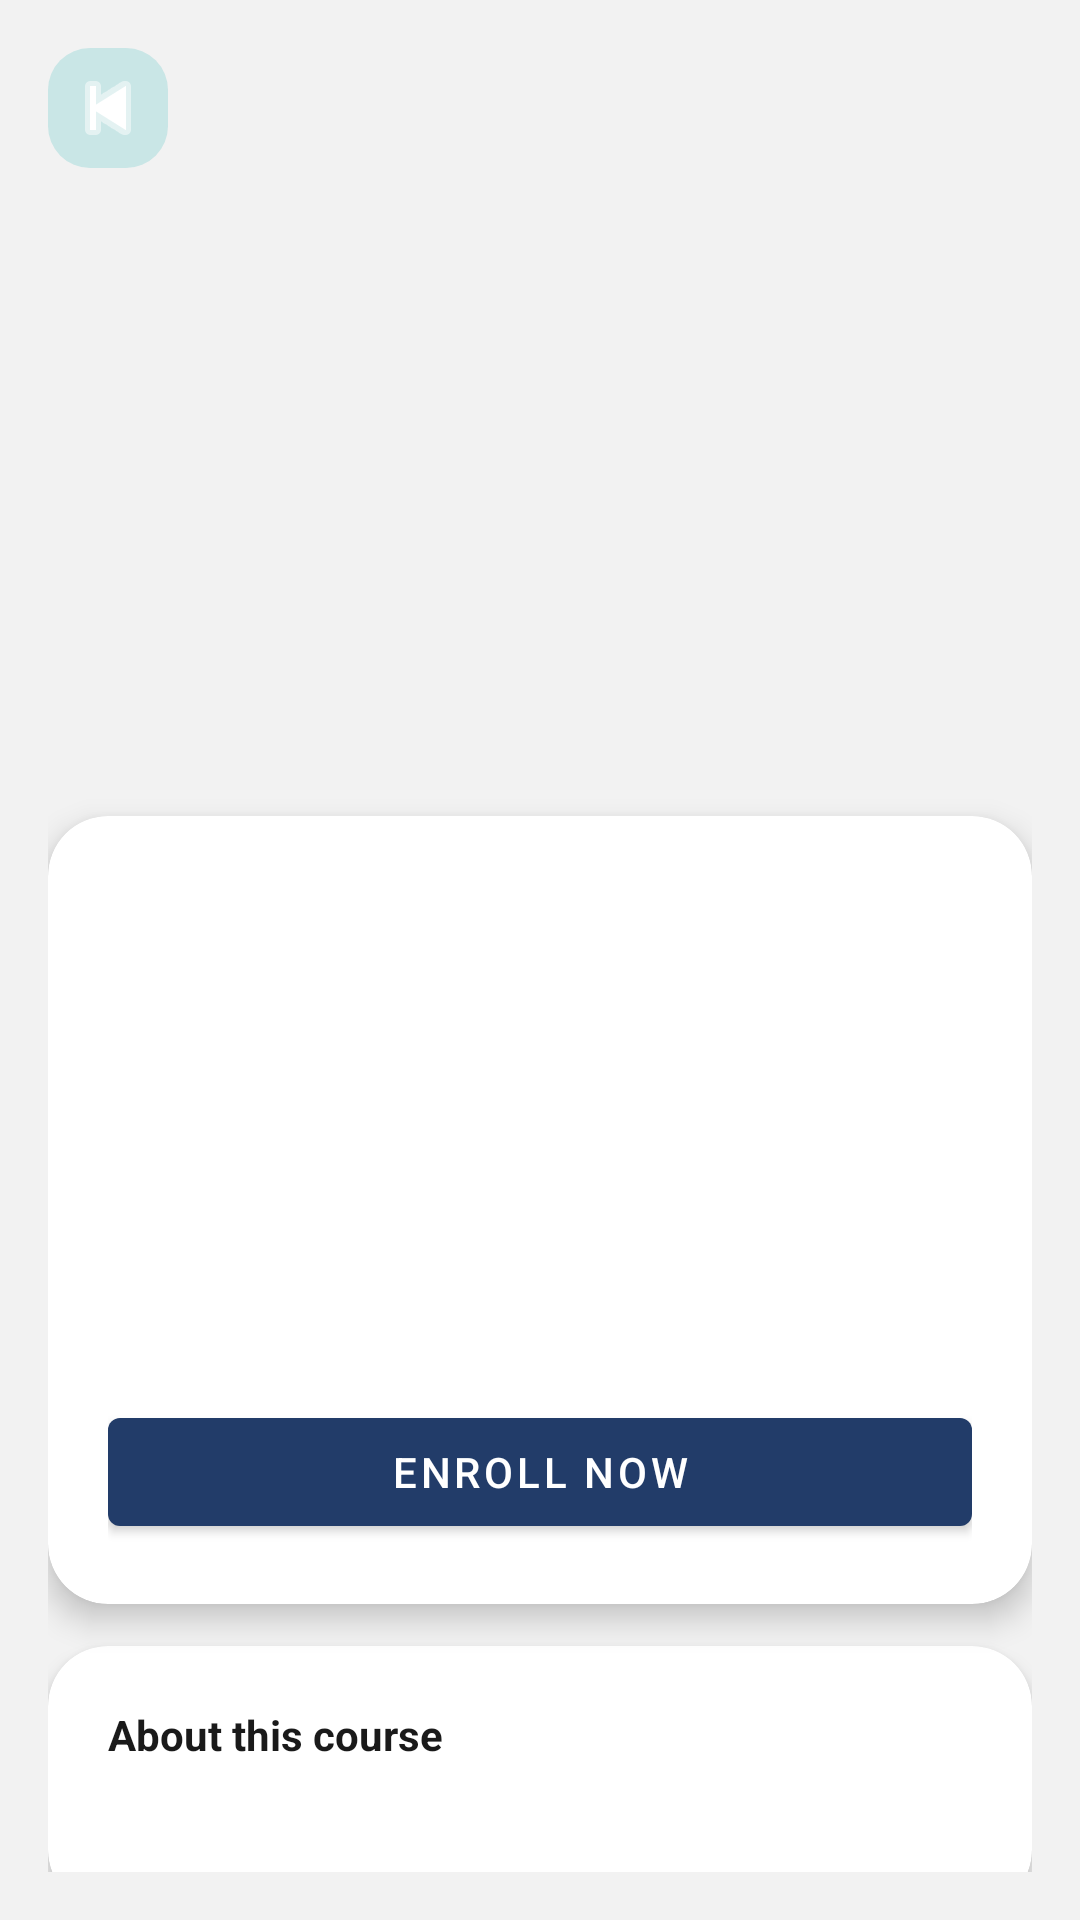

Screen size 1080px×1920px. Icon name, then its box in pixels as bbox(x1, y1, x2, y2):
Go back: bbox(48, 48, 168, 168)
